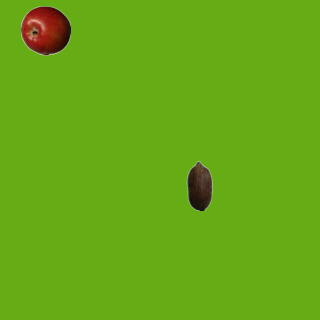Apple Braeburn: (20, 5, 70, 55)
Nut Pecan: (174, 160, 224, 210)
